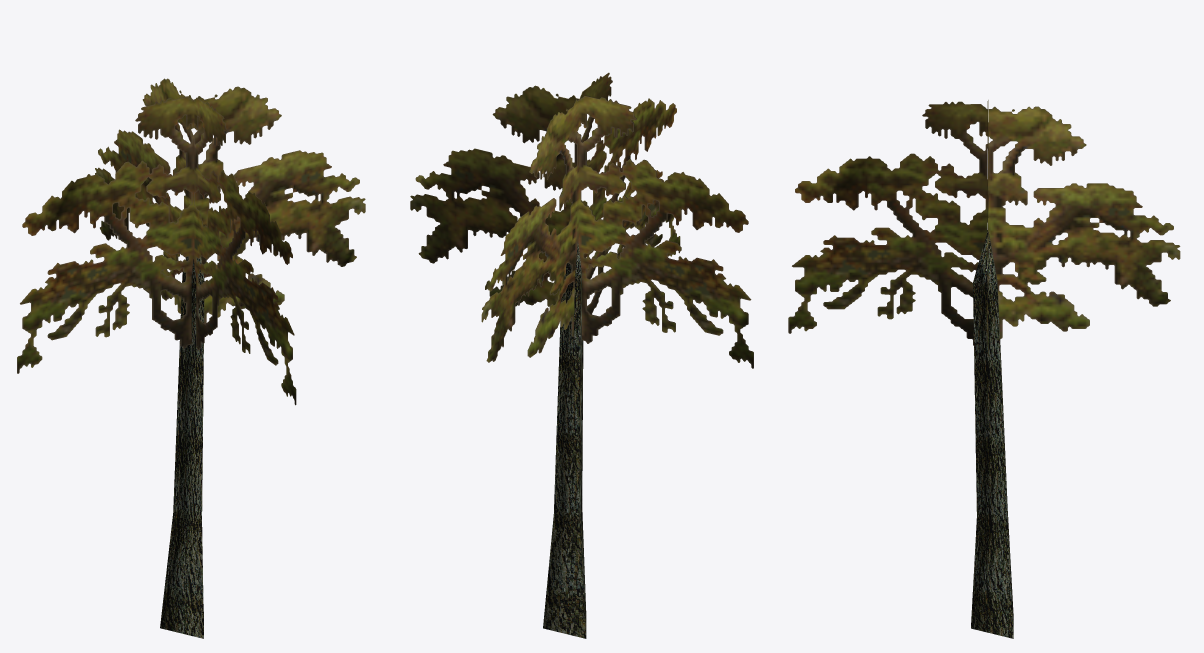
File: BPINE1_ACTORDEF.fbx
The picture shows the model from 3 angles, left to right: view 1: azimuth 30°, elevation 25°; view 2: azimuth 150°, elevation 25°; view 3: azimuth 270°, elevation 25°; orthographic projection. The views are drawn at different scales.
Visible parts, largest first — view 1: U3DMesh; view 2: U3DMesh; view 3: U3DMesh.
Boxes of the visible parts, left/top/right/bottom form: U3DMesh: left=17, top=78, right=365, bottom=638; U3DMesh: left=410, top=72, right=753, bottom=638; U3DMesh: left=788, top=100, right=1180, bottom=638.
Size of the model in its own units: 89.89 by 130 by 89.89.
